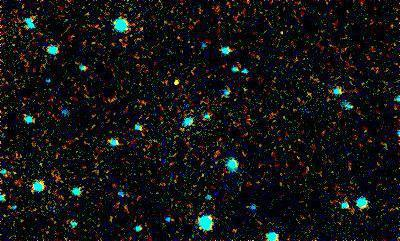star: (157, 63, 187, 93)
